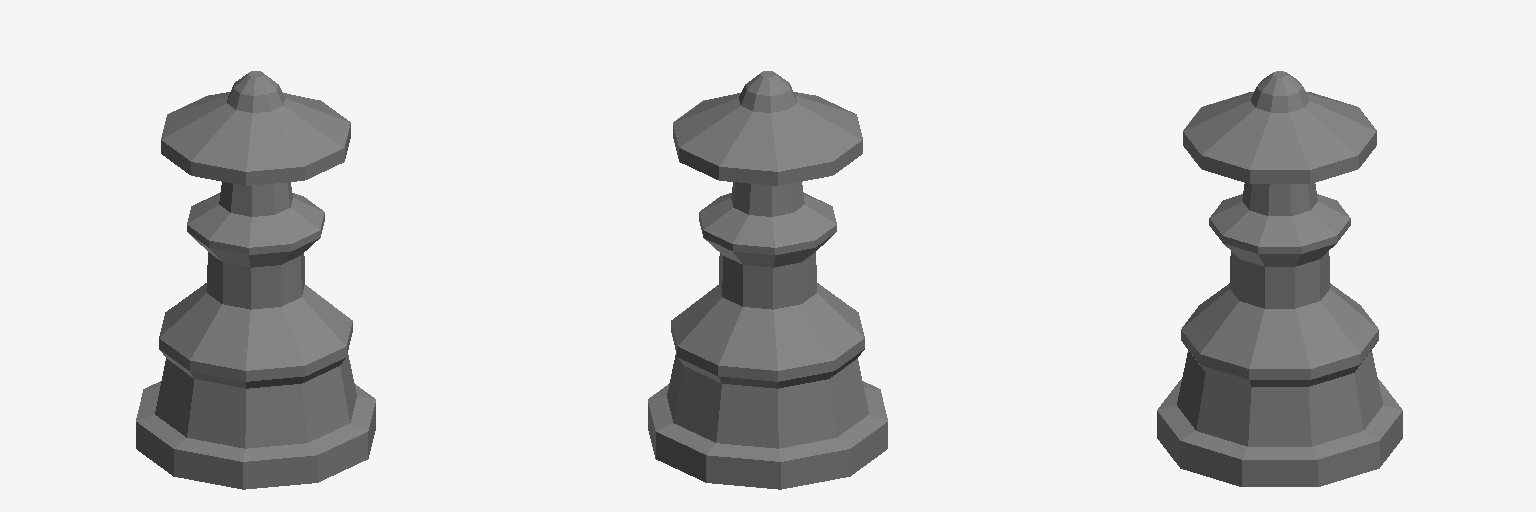
File: pawn.obj
3 views of the same model, side by side, from view 1: azimuth 30°, elevation 25°; view 2: azimuth 150°, elevation 25°; view 3: azimuth 270°, elevation 25° (orthographic).
Bounding box in the file's own units: 0.8047 × 1.38 × 0.8461.